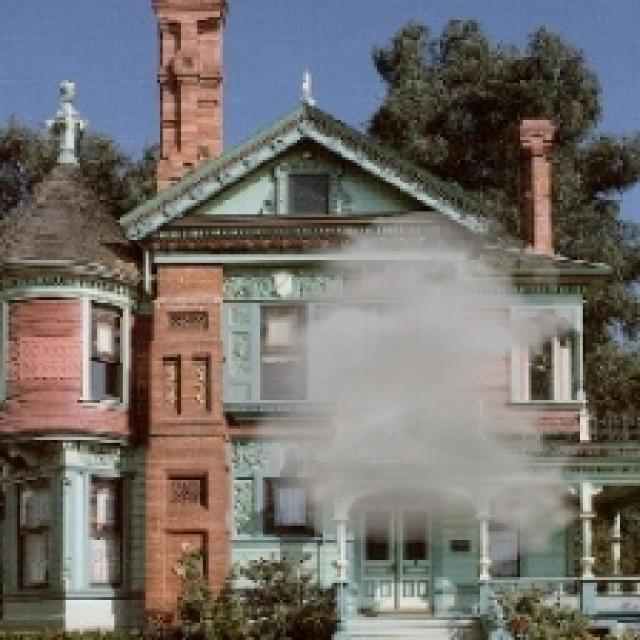Smoke: (195, 211, 594, 560)
